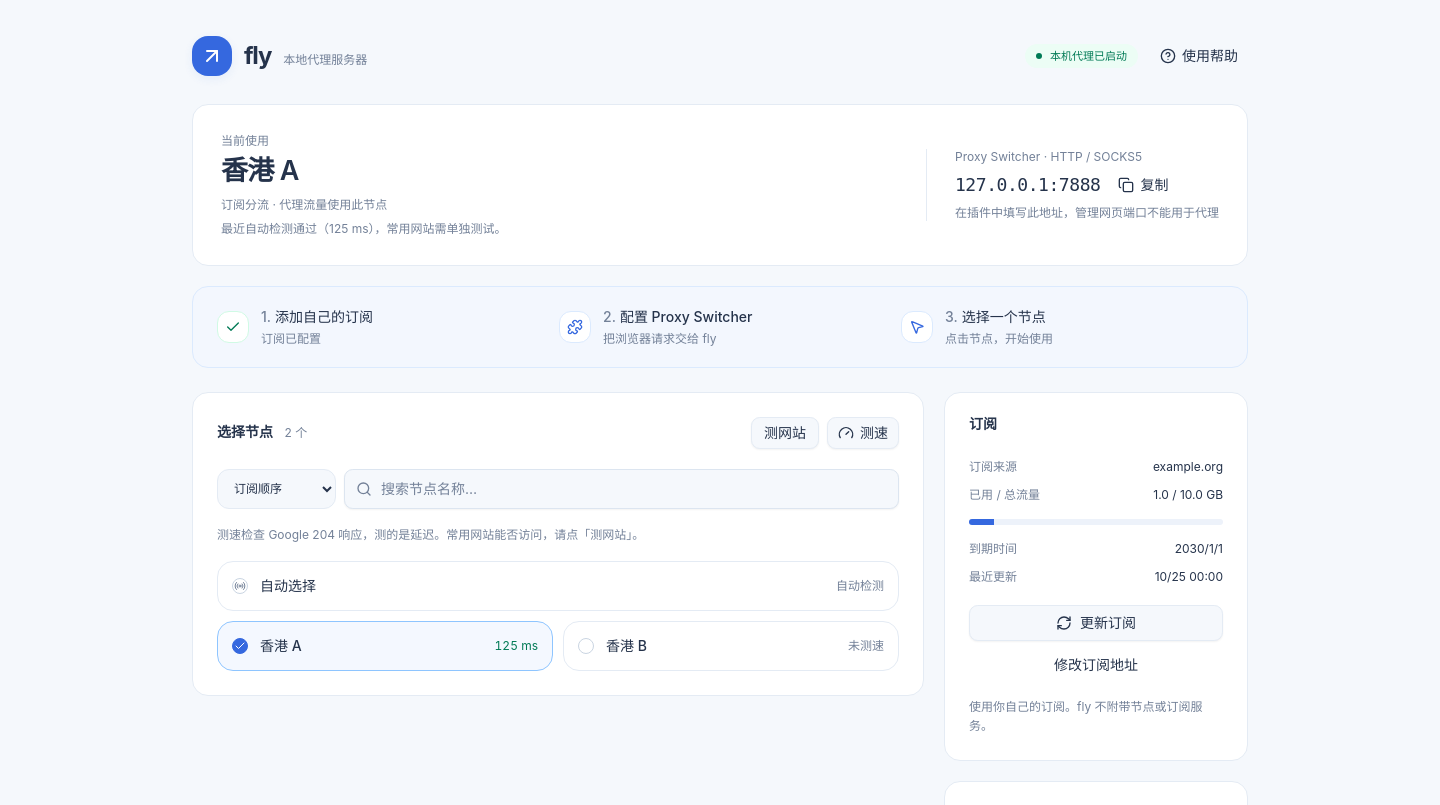
Test: retains a failed selection message through background refresh
Click the button with aria-label "选择节点：香港 B".
click(626, 645)  # box [563,621,899,671]
Wait 31000 ms
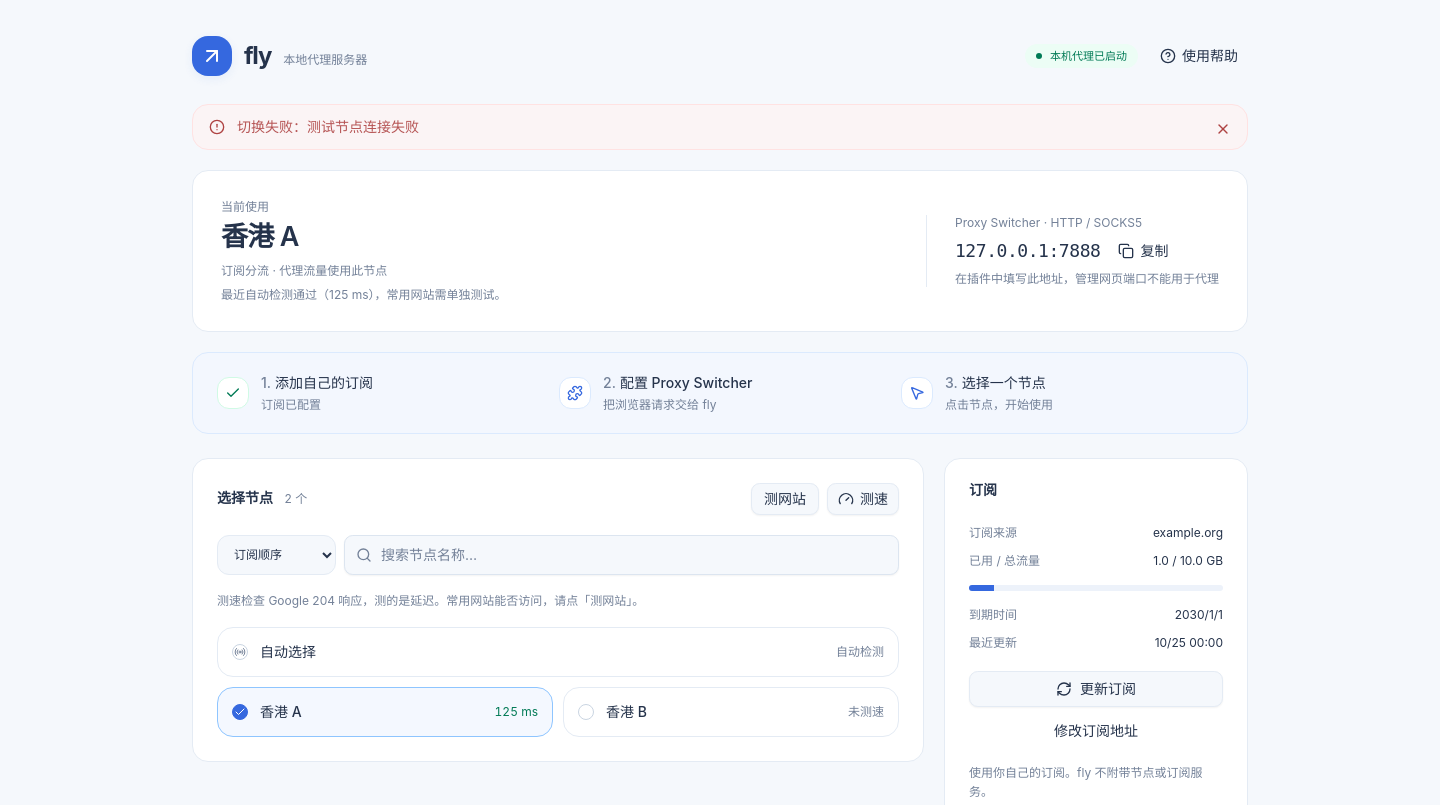
Result: the text "切换失败：测试节点连接失败" is shown at [237,118,419,135]
